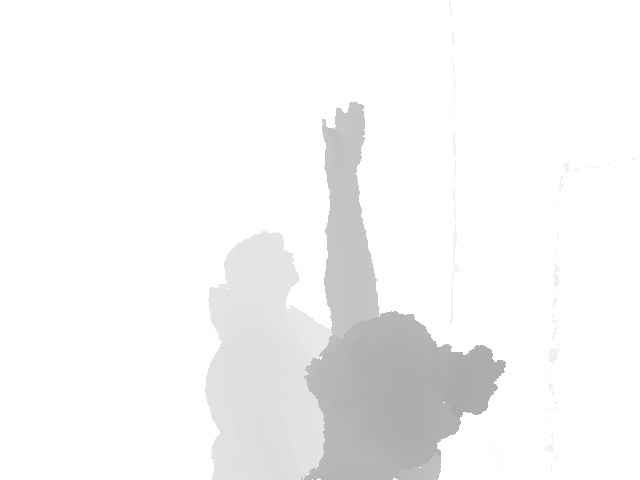hand: (321, 102, 365, 175)
head: (305, 311, 463, 462), (224, 230, 300, 310)
person: (303, 102, 508, 480), (204, 229, 335, 480)
